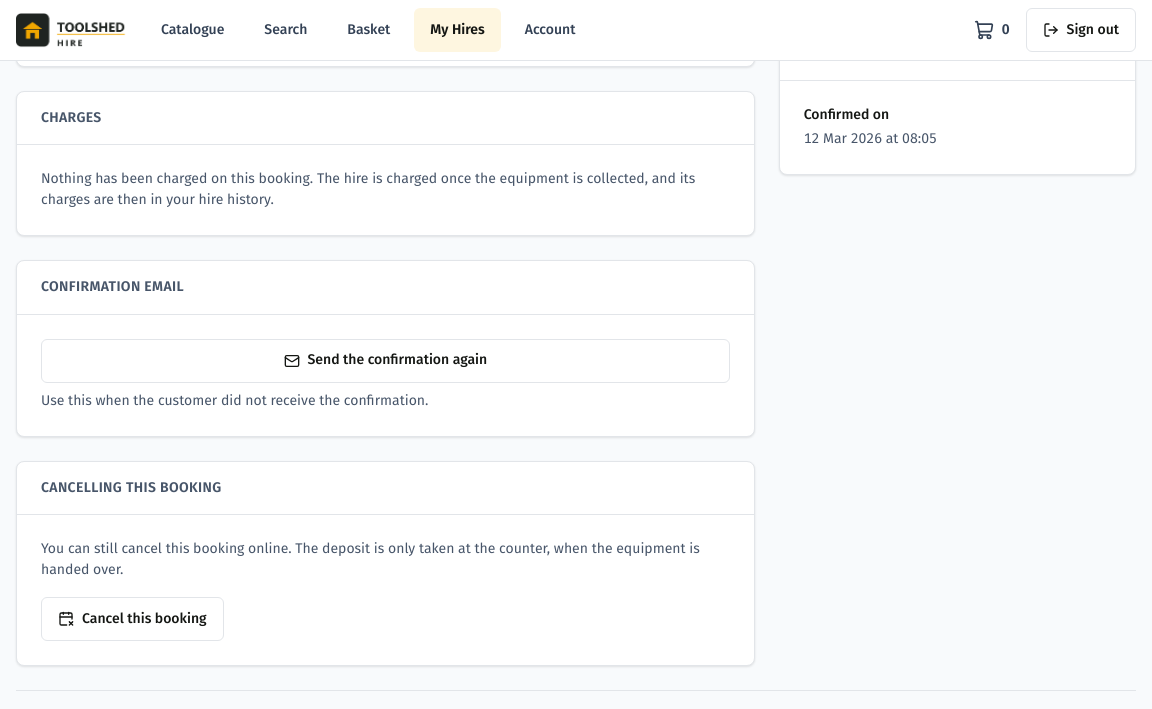
sending the confirmation again › says plainly when restricted email cannot reach the customer
The image size is (1152, 709).
(page scrolled)
Click the button "Send the confirmation again" at (385, 361), box 41,339 -> 730,383
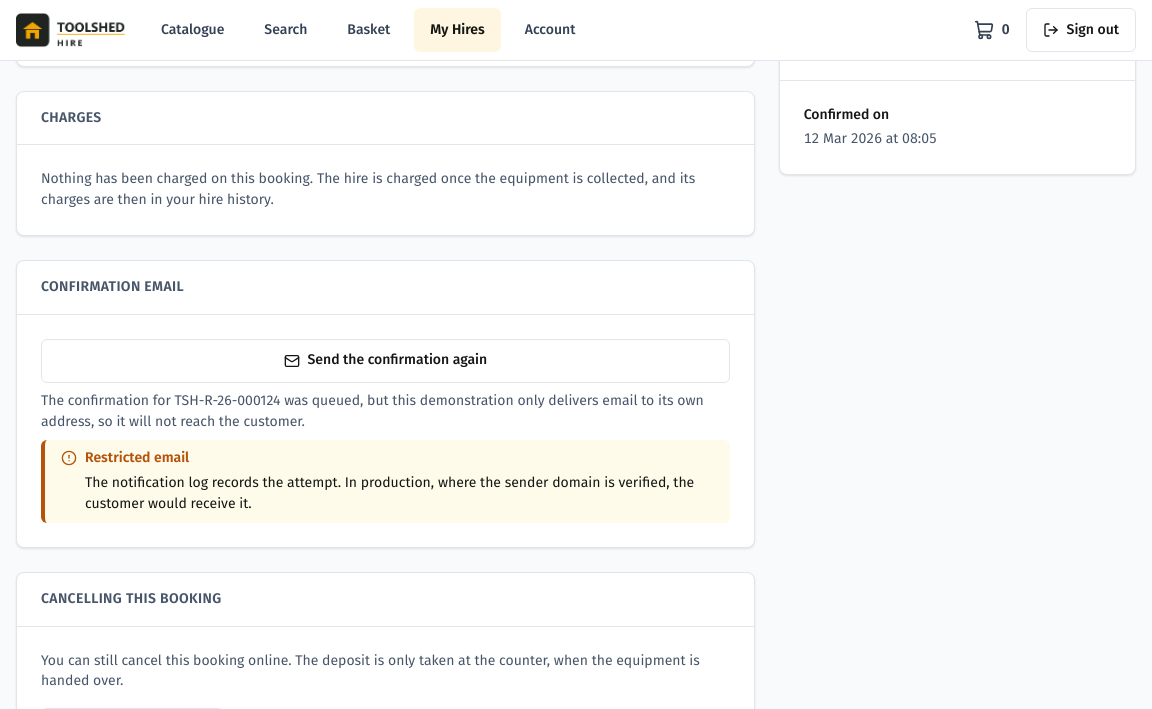
Check: the text "will not reach the customer" is shown, box 41,392 -> 704,430
Check: the text "Restricted email" is shown, box 85,449 -> 189,466
